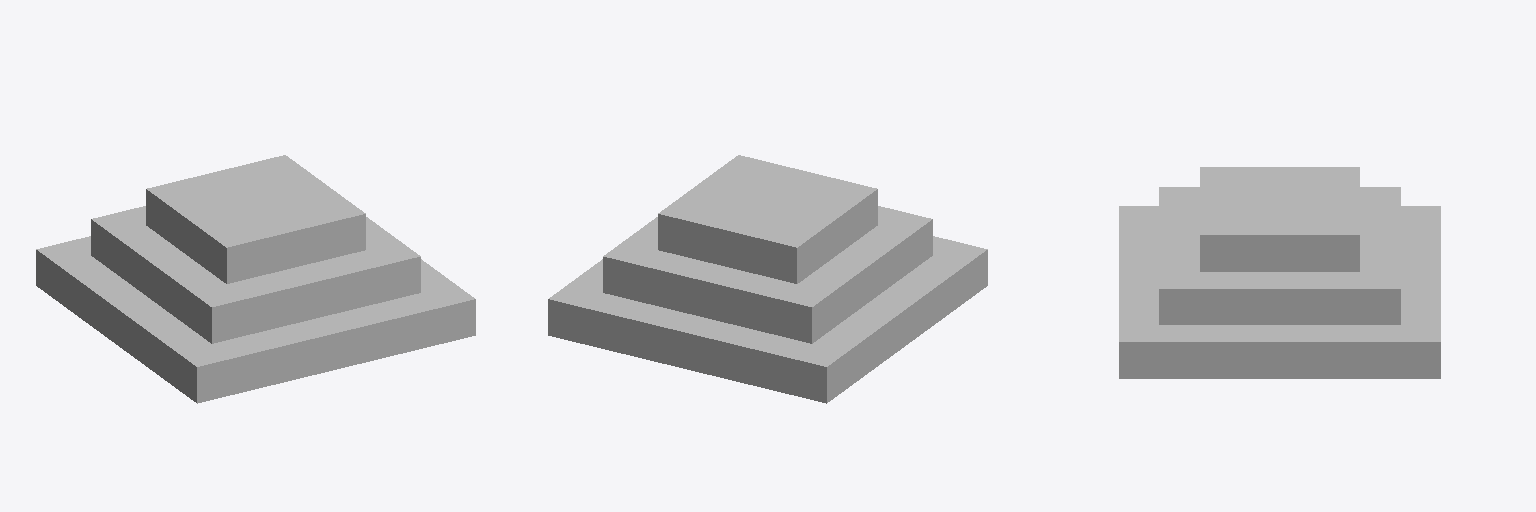
File: gasLift.obj
3 views of the same model, side by side, from view 1: azimuth 30°, elevation 25°; view 2: azimuth 150°, elevation 25°; view 3: azimuth 270°, elevation 25° (orthographic).
Size of the model in its own units: 1 by 0.375 by 1.